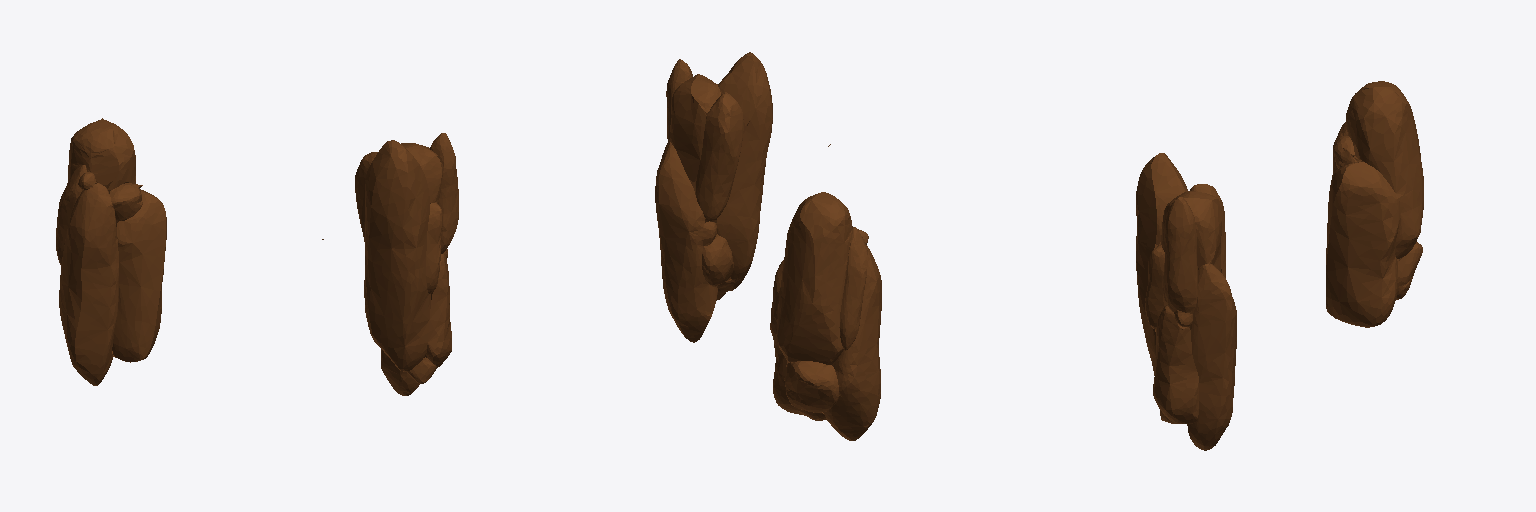
File: boulder.obj
The picture shows the model from 3 angles: view 1: azimuth 30°, elevation 25°; view 2: azimuth 150°, elevation 25°; view 3: azimuth 270°, elevation 25°; orthographic projection.
Visible parts, largest first — view 1: RockForm02_LP, RockForm02_LP.001; view 2: RockForm02_LP.001, RockForm02_LP; view 3: RockForm02_LP.001, RockForm02_LP.
Part boxes in pixels (bbox=[...]): RockForm02_LP: bbox=[56, 118, 166, 385]; RockForm02_LP.001: bbox=[322, 133, 458, 395]; RockForm02_LP.001: bbox=[655, 52, 830, 342]; RockForm02_LP: bbox=[770, 192, 881, 440]; RockForm02_LP.001: bbox=[1136, 153, 1236, 450]; RockForm02_LP: bbox=[1326, 81, 1423, 327].
Size of the model in its own units: 9.81 by 8.78 by 8.16.